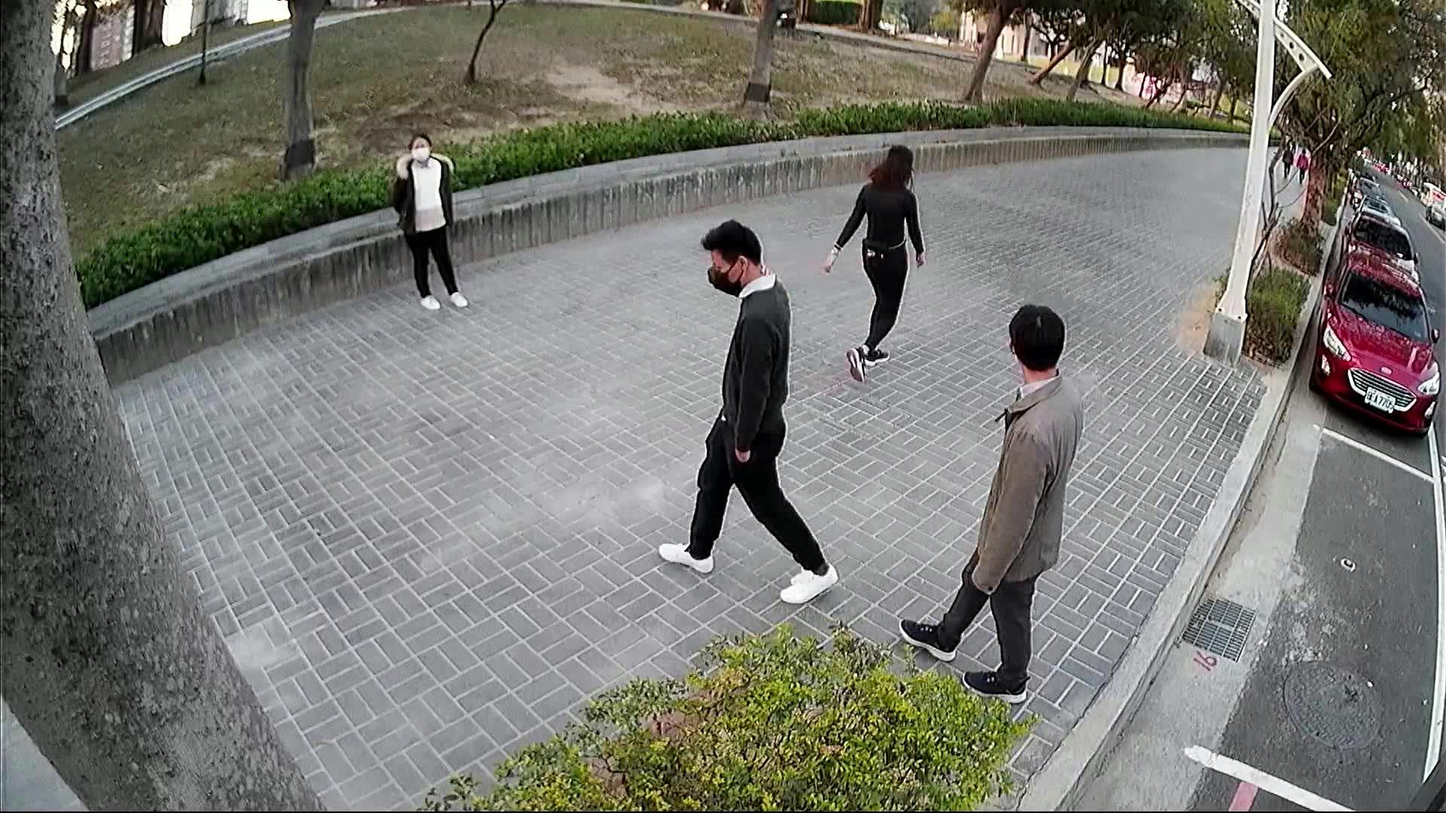person: (892, 294, 1083, 703), (650, 212, 843, 608), (819, 133, 930, 391), (385, 128, 468, 308)
